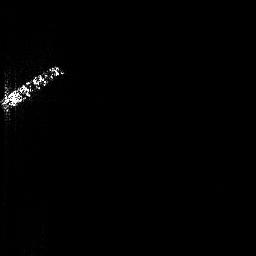ship: (2, 65, 62, 110)
